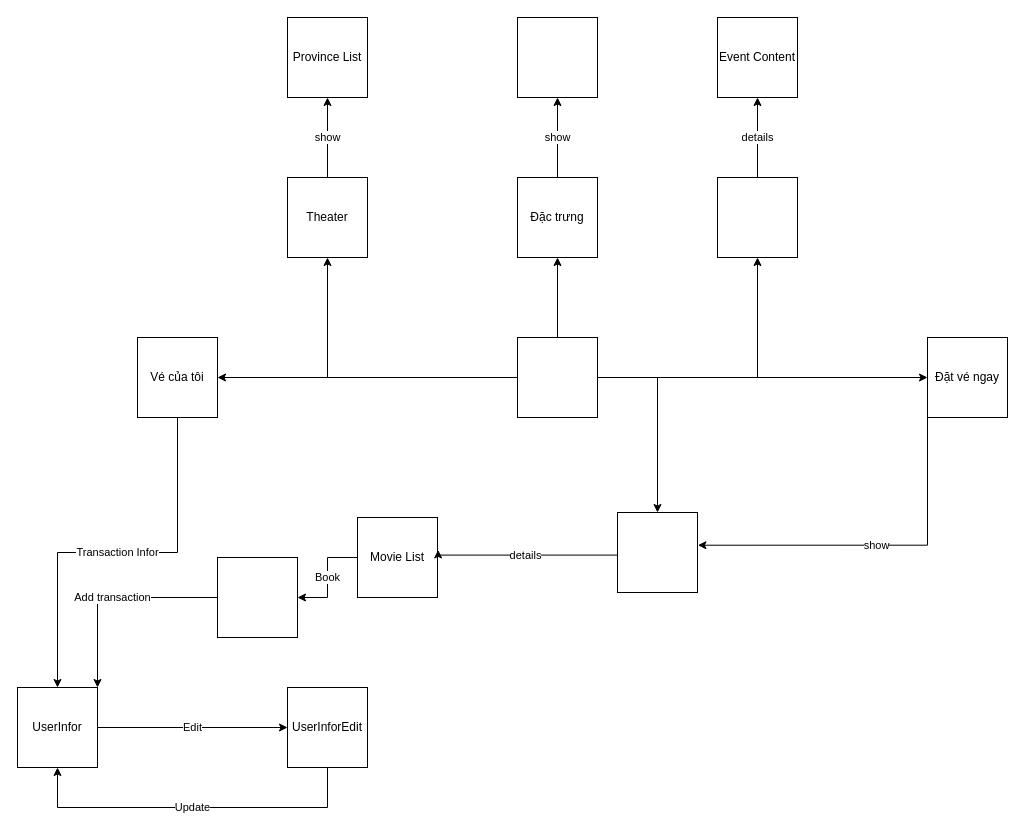
This 1025x833 diagram has some shape labels left out. The shapes that lost their labels are listed below. From the top down, each one's centre as x and y in pixels, then its label:
the point at 557,57: Đặc trưng details
the point at 757,217: Event List
the point at 557,377: Home
the point at 657,552: Movie
the point at 257,597: Booking
